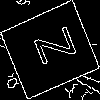Z: (25, 25, 77, 72)
